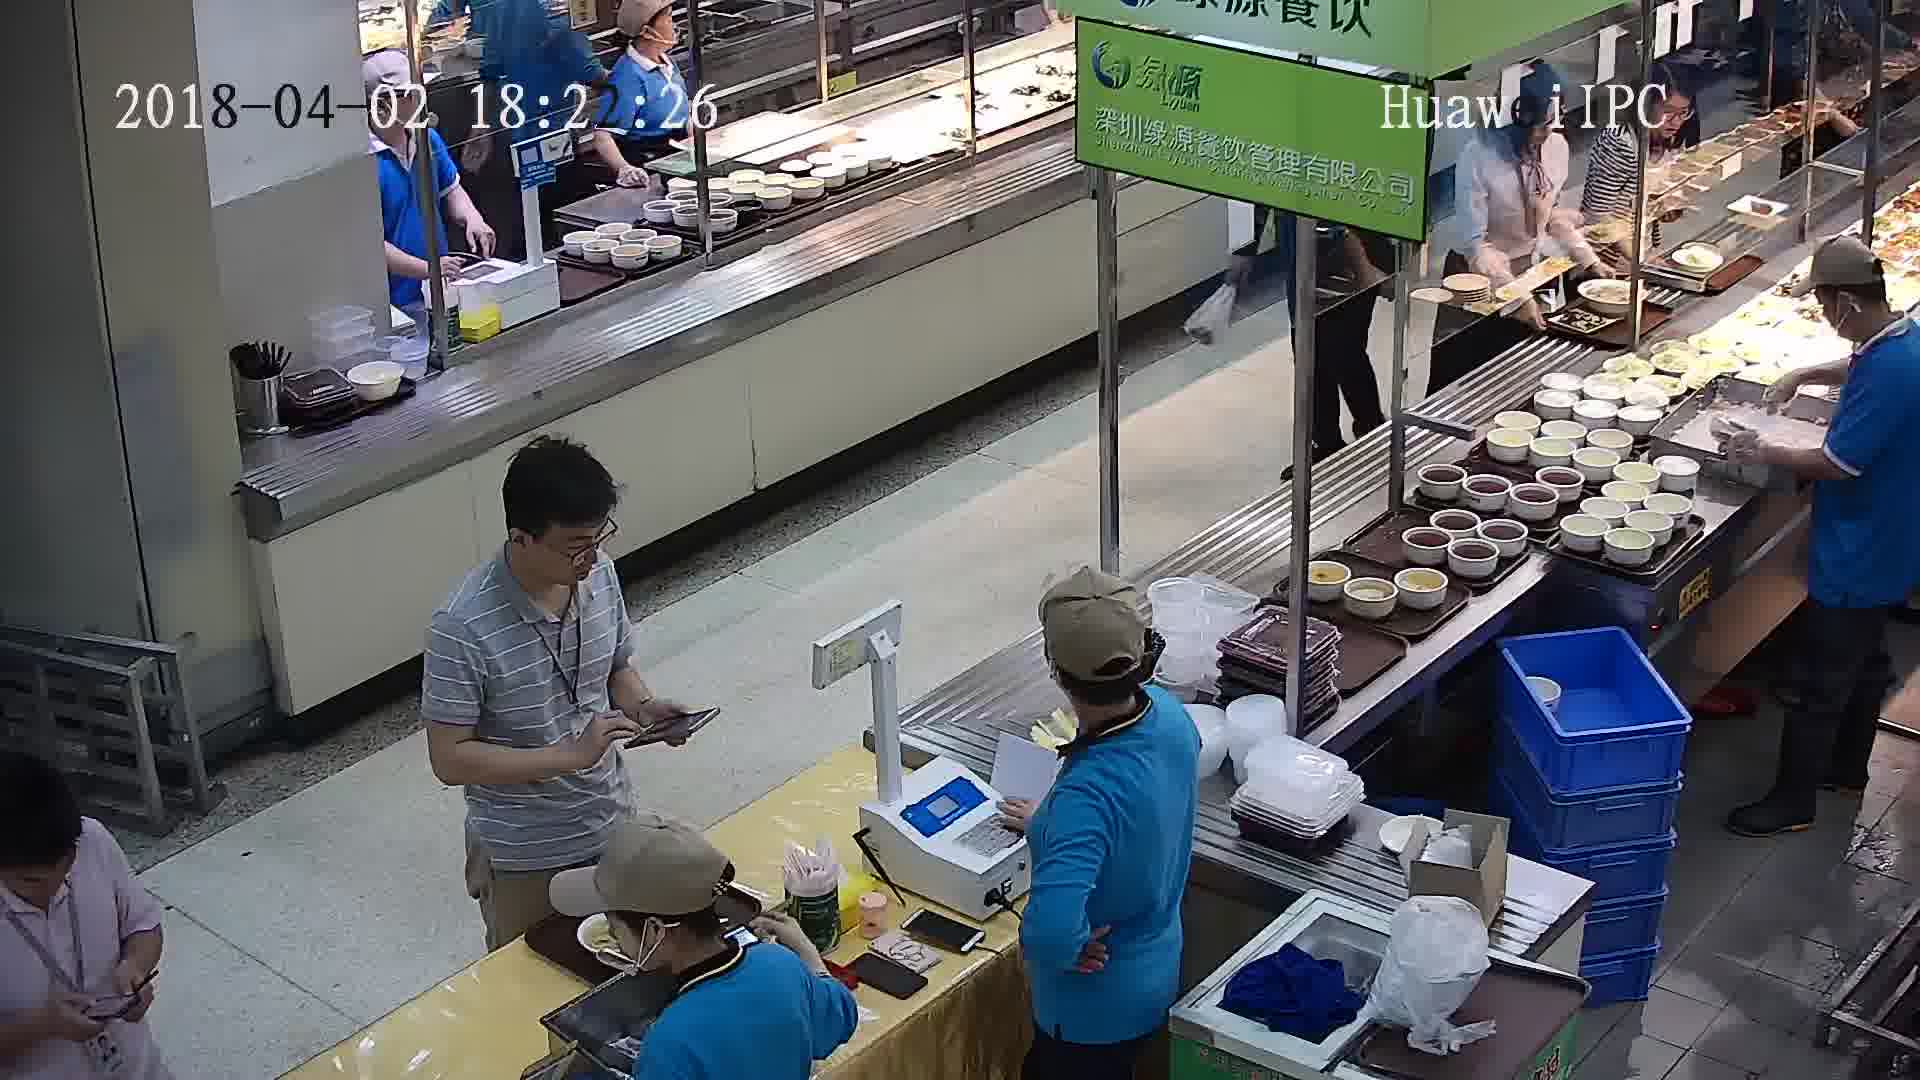face: (532, 511, 604, 583), (17, 847, 68, 897), (642, 6, 687, 51)
person: (584, 814, 814, 1064), (1026, 558, 1202, 832), (426, 437, 624, 670), (2, 744, 143, 960), (1799, 240, 1919, 406), (1466, 86, 1561, 178), (1606, 71, 1707, 155), (367, 79, 448, 179), (595, 4, 688, 91)
